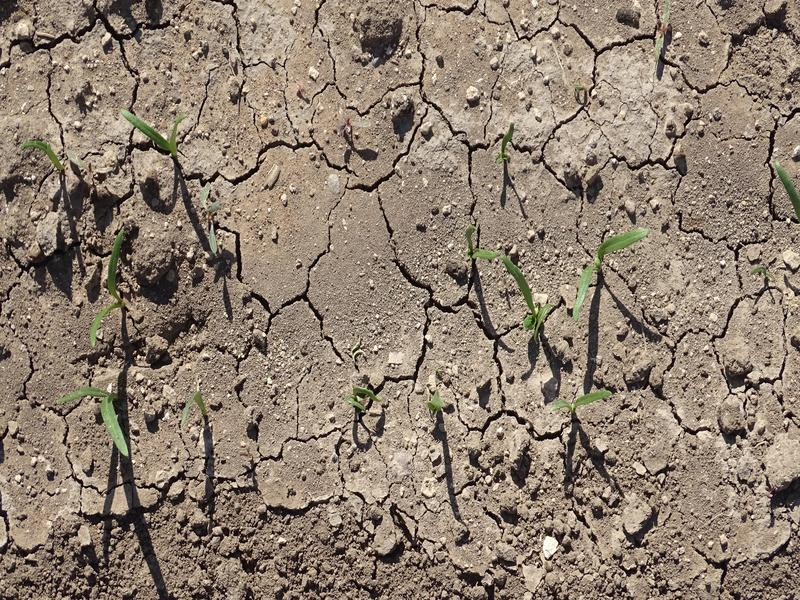Espinaca: (569, 227, 650, 320), (481, 245, 549, 335), (52, 381, 129, 459), (118, 103, 190, 160), (92, 228, 121, 348), (14, 137, 69, 175), (548, 387, 619, 415)
